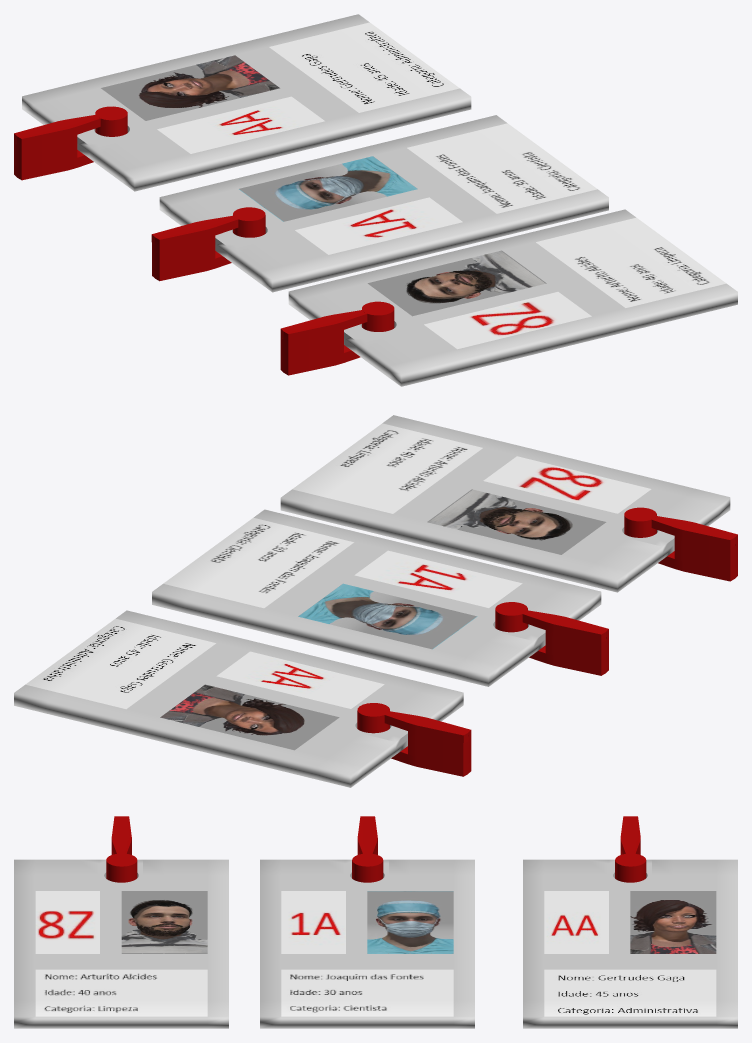
The model's file is NewIdCards (1).fbx.
3 views of the same model, one above another, from view 1: azimuth 30°, elevation 25°; view 2: azimuth 150°, elevation 25°; view 3: azimuth 270°, elevation 25° (orthographic). The views are drawn at different scales.
Parts seen in each view (by area): view 1: pCube3, pCube4, pCube2; view 2: pCube4, pCube3, pCube2; view 3: pCube2, pCube3, pCube4.
Boxes of the visible parts, x1=… form: pCube3: x1=280, y1=209, x2=737, y2=386; pCube4: x1=14, y1=14, x2=471, y2=191; pCube2: x1=151, y1=115, x2=608, y2=292; pCube4: x1=14, y1=610, x2=471, y2=787; pCube3: x1=280, y1=415, x2=737, y2=592; pCube2: x1=152, y1=509, x2=608, y2=686; pCube2: x1=260, y1=816, x2=474, y2=1028; pCube3: x1=14, y1=816, x2=228, y2=1028; pCube4: x1=523, y1=816, x2=737, y2=1028.
Size of the model in its own units: 11.66 by 1.16 by 19.25.
Materials: 11 (9 with a texture image).
